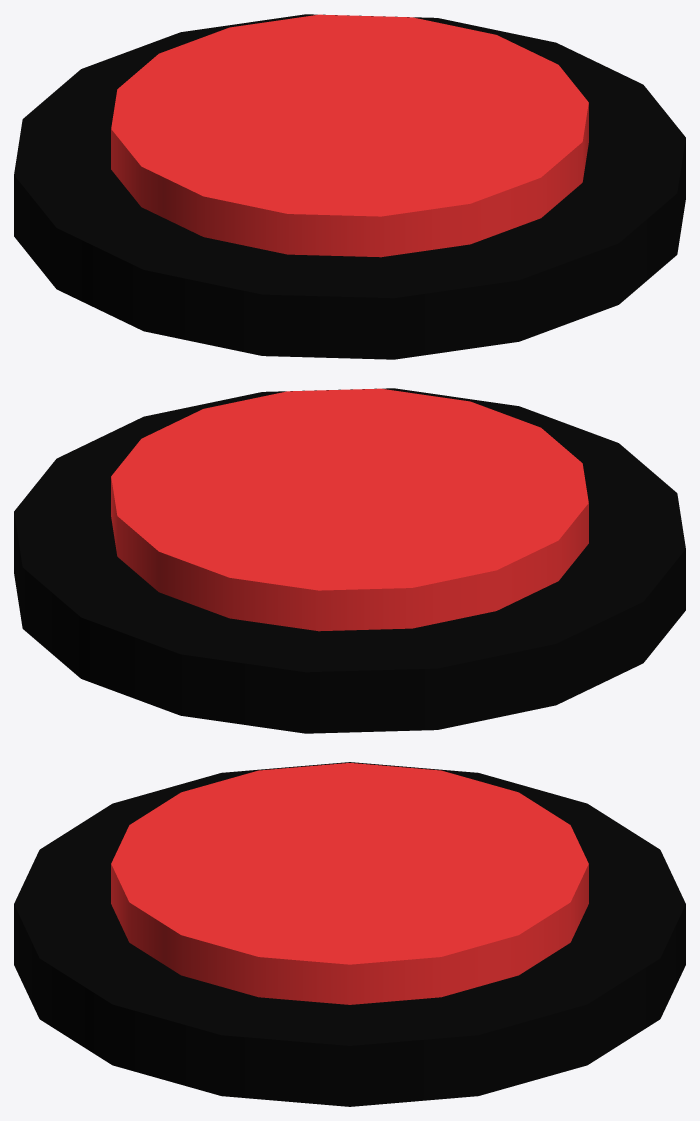
Rendered from Mine_01.fbx.
The picture shows the model from 3 angles, top to bottom: view 1: azimuth 30°, elevation 25°; view 2: azimuth 150°, elevation 25°; view 3: azimuth 270°, elevation 25°; orthographic projection.
Parts seen in each view (by area): view 1: Cylinder; view 2: Cylinder; view 3: Cylinder.
Part boxes in pixels (x1,y1,x2,y2): Cylinder: (14,14,685,359); Cylinder: (14,388,685,733); Cylinder: (14,762,685,1106).
Bounding box in the file's own units: 200 × 33.23 × 200.
